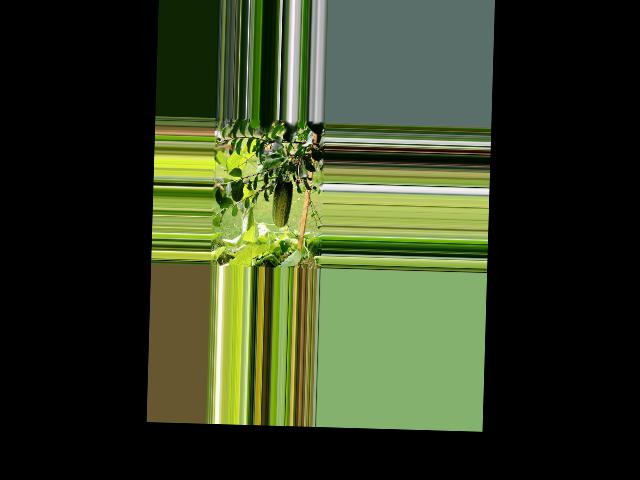cucumber: (272, 174, 293, 227)
